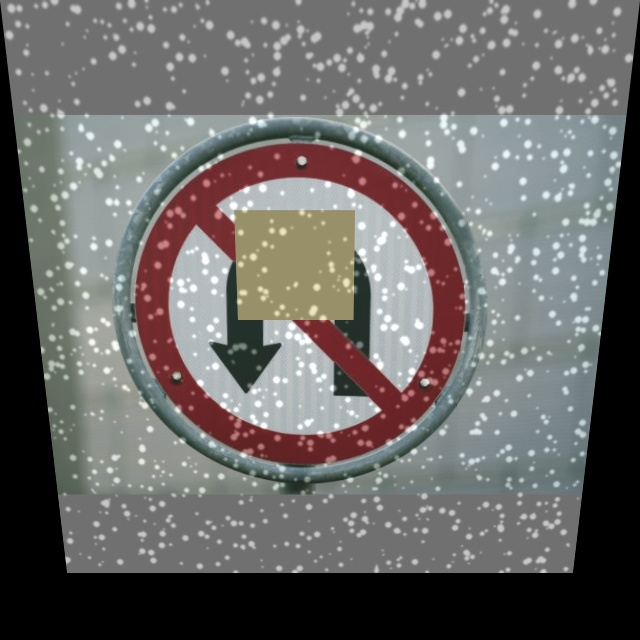U_Turn_Prohibited: (98, 113, 485, 478)
